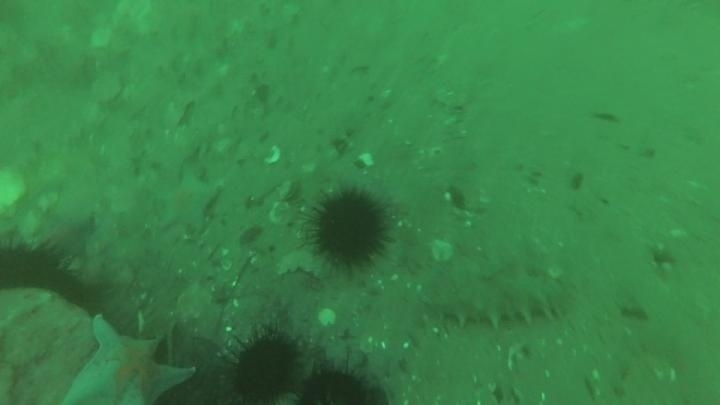echinus: (306, 187, 392, 271), (0, 233, 83, 308), (225, 326, 304, 403), (294, 365, 379, 405)
holothurian: (421, 267, 570, 330)
scallop: (0, 163, 28, 218)
starfish: (61, 311, 198, 405), (151, 167, 223, 235), (37, 207, 98, 262)
